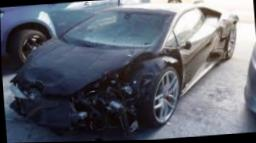Bonnet: (10, 35, 155, 94)
Bumper: (7, 95, 133, 132)
Fender: (125, 49, 182, 100)
Light: (78, 70, 130, 98)
